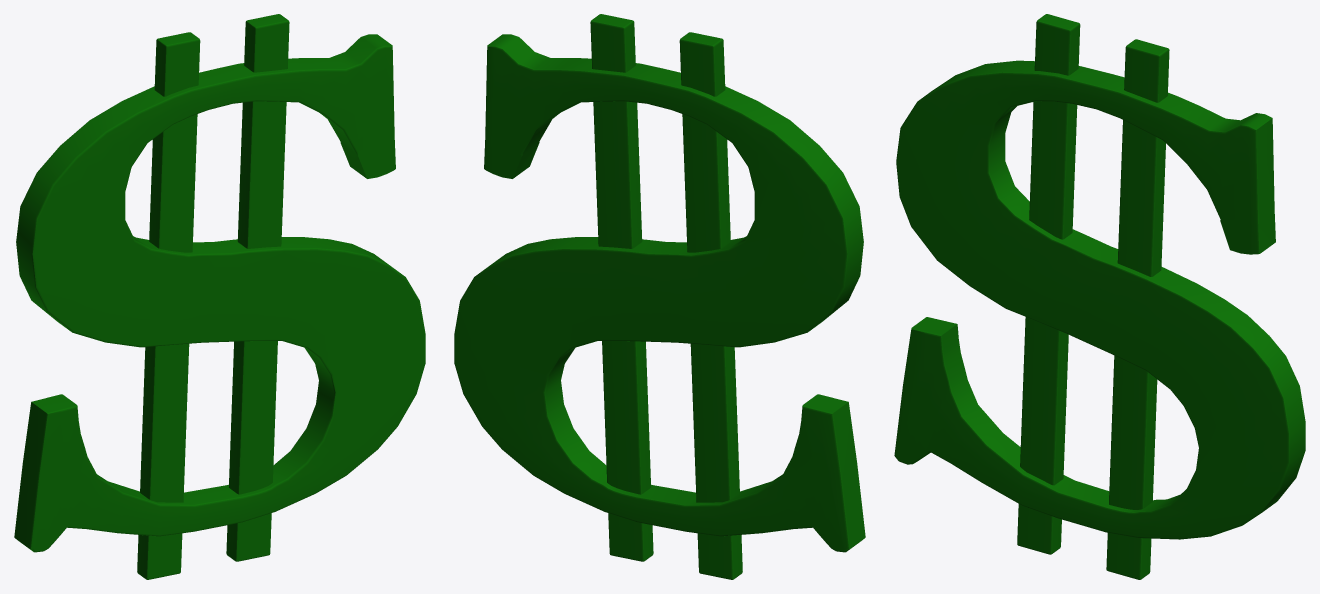
The model's file is MoneySymbol.fbx.
3 views of the same model, side by side, from view 1: azimuth 30°, elevation 25°; view 2: azimuth 150°, elevation 25°; view 3: azimuth 330°, elevation 25° (orthographic).
Parts seen in each view (by area): view 1: Money; view 2: Money; view 3: Money.
Boxes of the visible parts, bbox=[...] form: Money: bbox=[14, 14, 425, 579]; Money: bbox=[454, 14, 865, 579]; Money: bbox=[894, 14, 1305, 579].
Size of the model in its own units: 0.7399 by 0.9558 by 0.0559.
